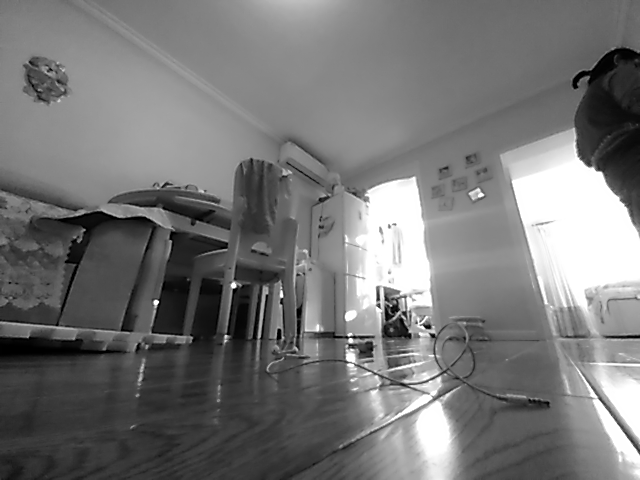carpet: (1, 318, 196, 354)
curtain: (529, 217, 591, 337)
wire: (267, 318, 551, 411)
